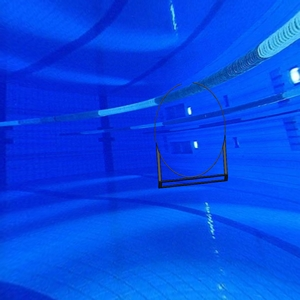circle: (154, 81, 231, 190)
